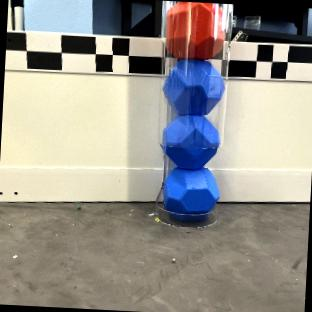Loader: (153, 0, 232, 227)
V5_BLUE: (163, 58, 224, 114), (163, 167, 219, 220), (162, 115, 219, 166)
V5_RED: (165, 1, 224, 59)
